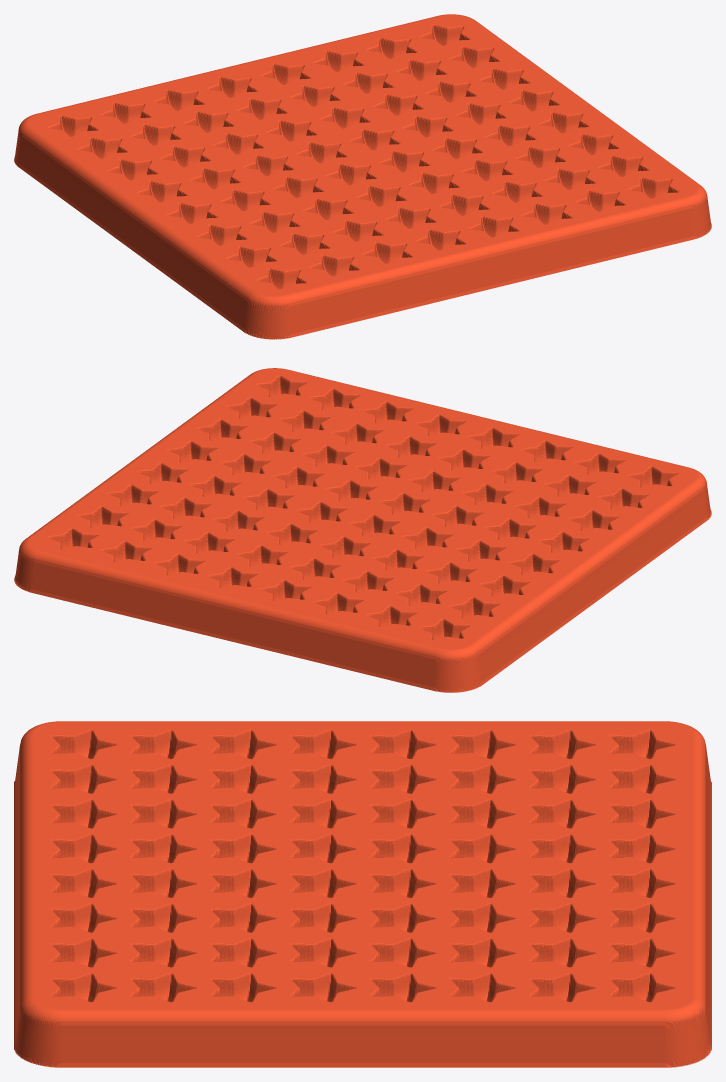
File: mold.glb
3 views of the same model, one above another, from view 1: azimuth 30°, elevation 25°; view 2: azimuth 150°, elevation 25°; view 3: azimuth 270°, elevation 25° (orthographic). The views are drawn at different scales.
Visible parts, largest first — view 1: geometry_0; view 2: geometry_0; view 3: geometry_0.
Boxes of the visible parts, bbox=[...] form: geometry_0: bbox=[14, 14, 711, 339]; geometry_0: bbox=[14, 368, 711, 692]; geometry_0: bbox=[14, 721, 711, 1067].
Size of the model in its own units: 0.1355 by 0.0105 by 0.1319.
